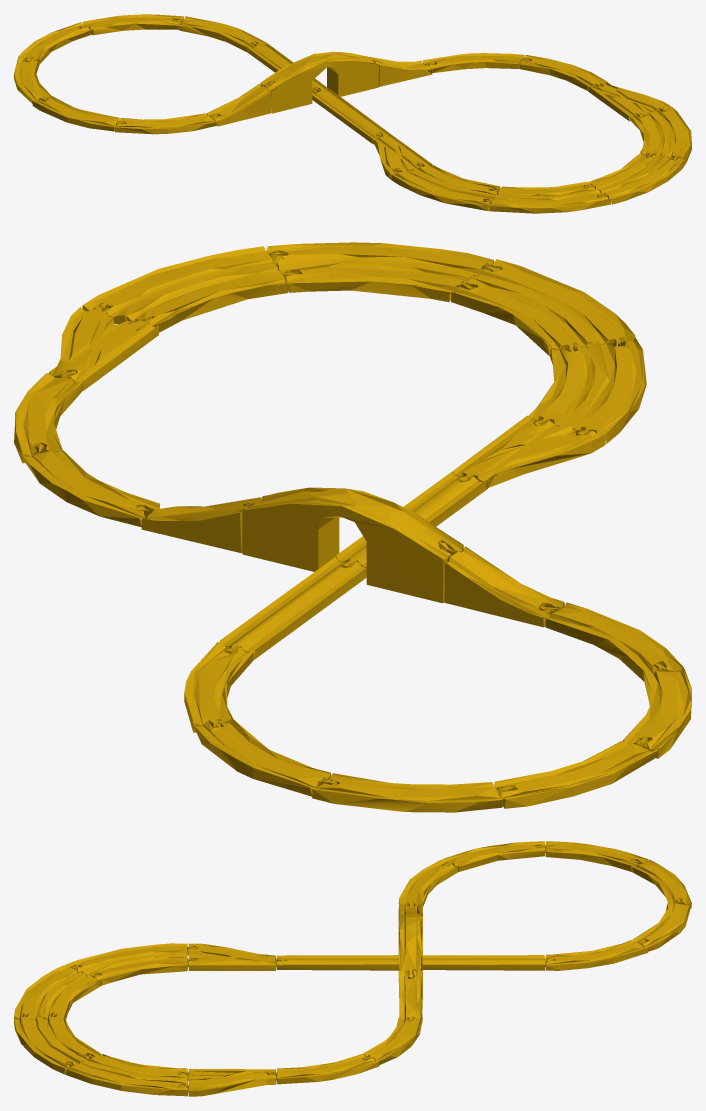
Rendered from pista_LOD02.fbx.
3 renders of one model, top to bottom at view 1: azimuth 30°, elevation 25°; view 2: azimuth 150°, elevation 25°; view 3: azimuth 270°, elevation 25°, orthographic. The views are drawn at different scales.
Parts seen in each view (by area): view 1: pistaa; view 2: pistaa; view 3: pistaa.
Part boxes in pixels (box(x1,y1,x2,y2)): pistaa: box(14, 14, 691, 213); pistaa: box(14, 242, 691, 812); pistaa: box(14, 841, 691, 1096).
Bounding box in the file's own units: 286 × 22.58 × 328.
